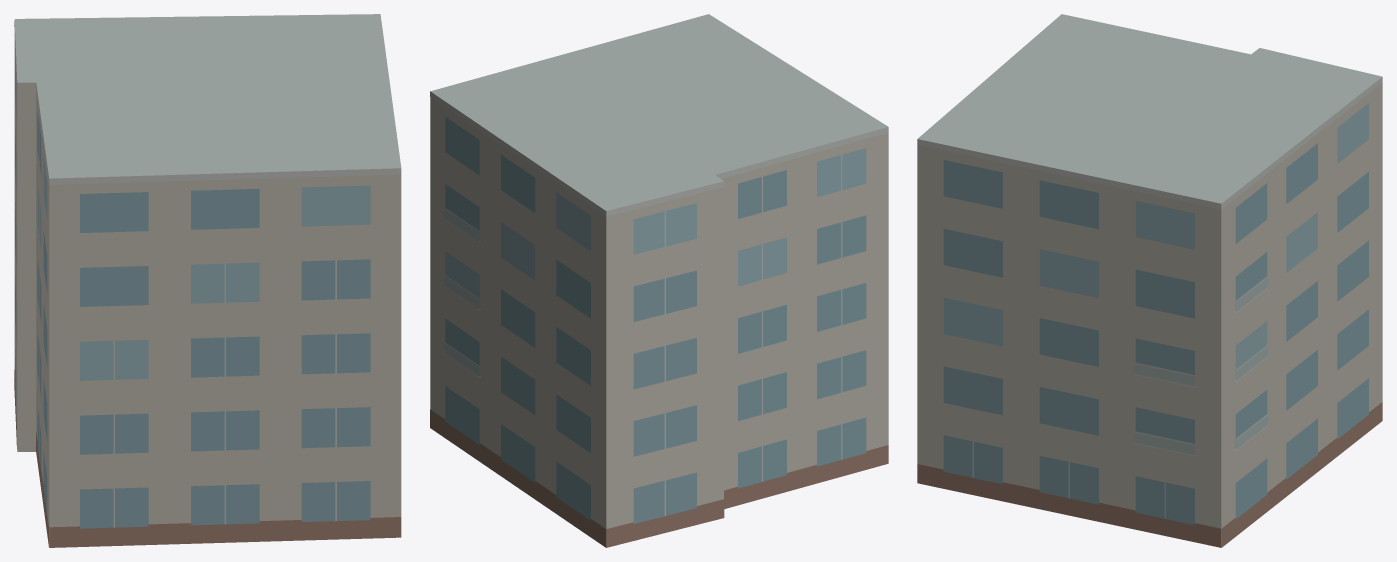
File: survey-upis-32581421.glb
3 renders of one model, left to right at view 1: azimuth 30°, elevation 25°; view 2: azimuth 150°, elevation 25°; view 3: azimuth 270°, elevation 25°, orthographic. The views are drawn at different scales.
Visible parts, largest first — view 1: survey-upis-32581421.tmp; view 2: survey-upis-32581421.tmp; view 3: survey-upis-32581421.tmp.
Boxes of the visible parts, x1=… form: survey-upis-32581421.tmp: x1=14, y1=14, x2=401, y2=547; survey-upis-32581421.tmp: x1=430, y1=14, x2=888, y2=547; survey-upis-32581421.tmp: x1=917, y1=14, x2=1382, y2=547.
Size of the model in its own units: 17.15 by 14.5 by 17.78.
